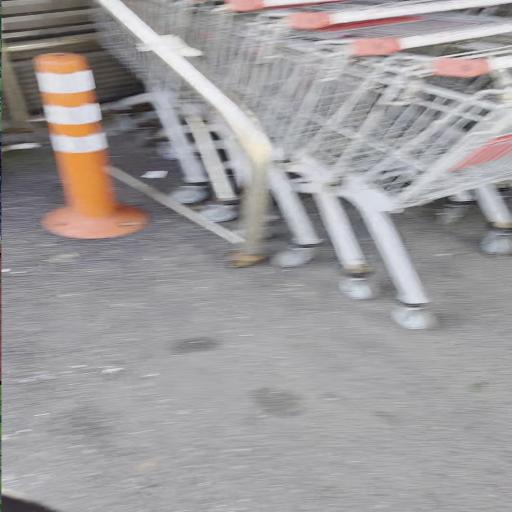combined_cart: (0, 1, 512, 335)
